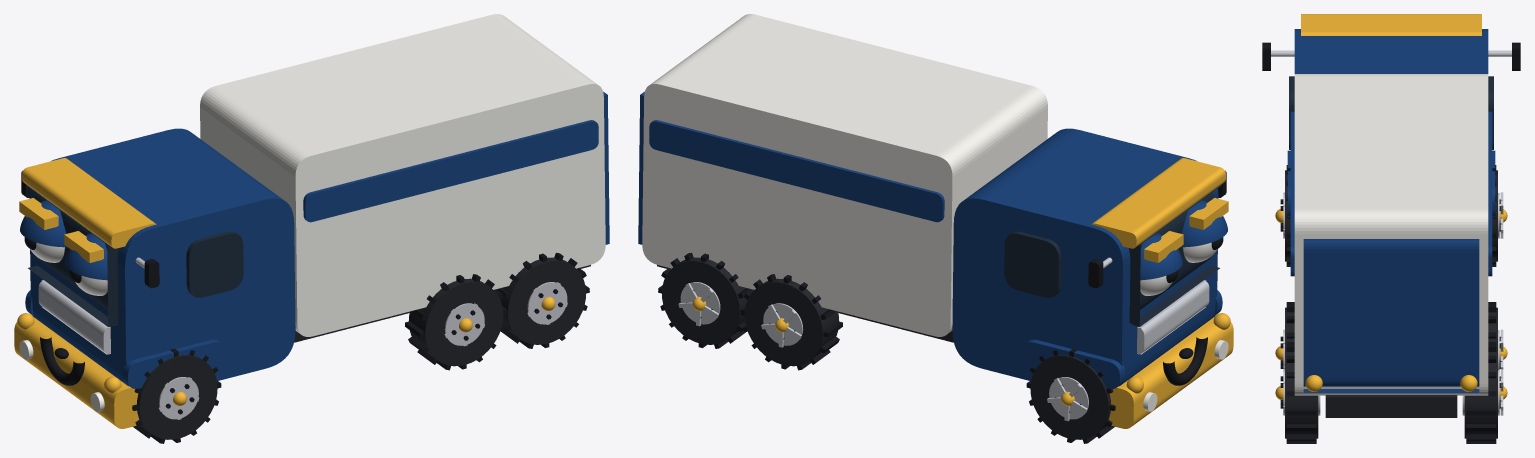
The model's file is maskot-truck.glb.
The picture shows the model from 3 angles, left to right: view 1: azimuth 30°, elevation 25°; view 2: azimuth 150°, elevation 25°; view 3: azimuth 270°, elevation 25°; orthographic projection.
Parts seen in each view (by area): view 1: trailerBody, cabBody, trailerStripeL, cabRoofVisor, wheelRearLeftATire, wheelRearLeftBTire, bumper, wheelFrontLeftTire, sideWindowL, windshield, grille, fenderFrontLeft (+9 smaller); view 2: trailerBody, cabBody, trailerStripeR, cabRoofVisor, wheelRearRightATire, wheelRearRightBTire, bumper, wheelFrontRightTire, sideWindowR, windshield, grille, fenderFrontRight (+9 smaller); view 3: trailerBody, trailerRearDoor, cabBody, cabRoofVisor, chassis, wheelRearLeftBTire, wheelRearRightBTire, trailerStripeL, trailerStripeR, wheelFrontLeftTire, wheelFrontRightTire, sideWindowL (+1 smaller).
Part boxes in pixels (x1=…): trailerBody: x1=200, y1=14, x2=605, y2=336; cabBody: x1=29, y1=128, x2=295, y2=386; trailerStripeL: x1=303, y1=120, x2=598, y2=222; cabRoofVisor: x1=22, y1=158, x2=156, y2=248; wheelRearLeftATire: x1=409, y1=278, x2=503, y2=366; wheelRearLeftBTire: x1=500, y1=257, x2=585, y2=344; bumper: x1=14, y1=314, x2=139, y2=428; wheelFrontLeftTire: x1=137, y1=355, x2=217, y2=439; sideWindowL: x1=186, y1=231, x2=243, y2=297; windshield: x1=27, y1=185, x2=118, y2=326; grille: x1=38, y1=280, x2=110, y2=354; fenderFrontLeft: x1=122, y1=339, x2=225, y2=388; trailerBody: x1=642, y1=14, x2=1047, y2=336; cabBody: x1=952, y1=128, x2=1218, y2=386; trailerStripeR: x1=649, y1=120, x2=944, y2=222; cabRoofVisor: x1=1091, y1=158, x2=1225, y2=248; wheelRearRightATire: x1=744, y1=278, x2=838, y2=366; wheelRearRightBTire: x1=662, y1=257, x2=747, y2=344; bumper: x1=1108, y1=314, x2=1233, y2=428; wheelFrontRightTire: x1=1030, y1=355, x2=1110, y2=439; sideWindowR: x1=1004, y1=231, x2=1061, y2=297; windshield: x1=1129, y1=185, x2=1220, y2=326; grille: x1=1137, y1=280, x2=1209, y2=354; fenderFrontRight: x1=1022, y1=339, x2=1125, y2=388; trailerBody: x1=1294, y1=74, x2=1488, y2=395; trailerRearDoor: x1=1303, y1=239, x2=1479, y2=392; cabBody: x1=1294, y1=29, x2=1488, y2=73; cabRoofVisor: x1=1301, y1=14, x2=1481, y2=35; chassis: x1=1325, y1=395, x2=1457, y2=417; wheelRearLeftBTire: x1=1285, y1=347, x2=1318, y2=438; wheelRearRightBTire: x1=1464, y1=347, x2=1497, y2=438; trailerStripeL: x1=1290, y1=111, x2=1294, y2=276; trailerStripeR: x1=1488, y1=111, x2=1492, y2=276; wheelFrontLeftTire: x1=1285, y1=170, x2=1290, y2=261; wheelFrontRightTire: x1=1492, y1=170, x2=1497, y2=261; sideWindowL: x1=1289, y1=76, x2=1294, y2=149.
Size of the model in its own units: 6.95 by 3.23 by 2.94.
